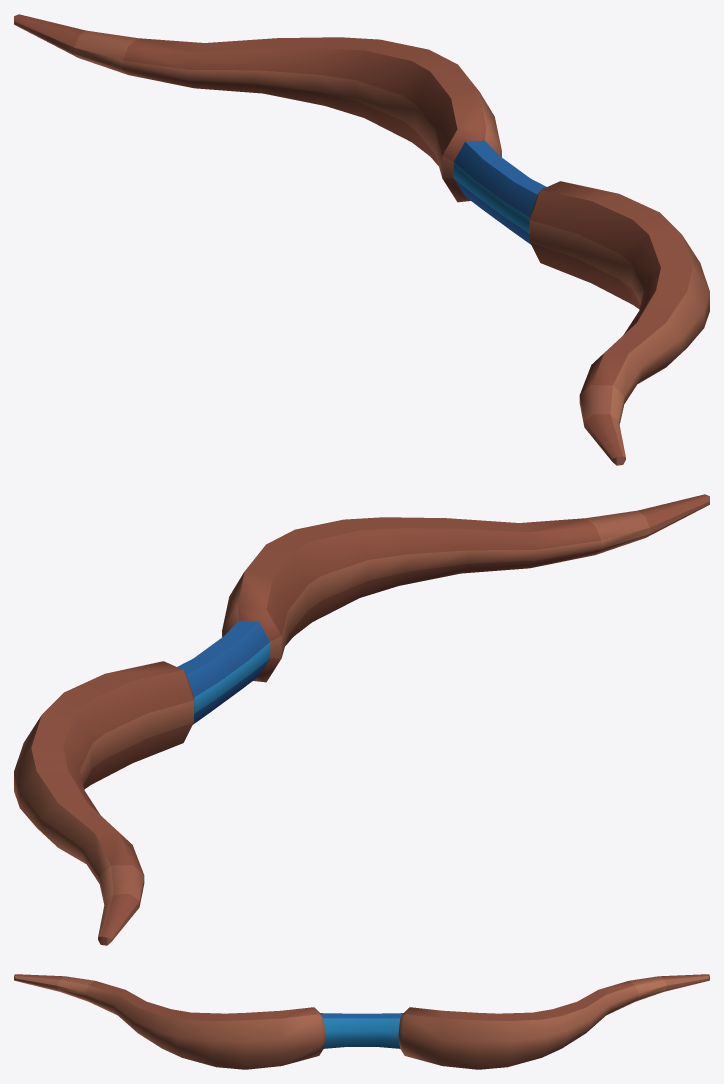
The model's file is bow.glb.
3 renders of one model, top to bottom at view 1: azimuth 30°, elevation 25°; view 2: azimuth 150°, elevation 25°; view 3: azimuth 270°, elevation 25°, orthographic. The views are drawn at different scales.
Visible parts, largest first — view 1: bow; view 2: bow; view 3: bow.
Part boxes in pixels (x1,y1,x2,y2): bow: (14, 14, 709, 465); bow: (14, 494, 709, 945); bow: (14, 974, 709, 1069).
Bounding box in the file's own units: 0.4944 × 0.1556 × 1.98.
Materials: 1 (1 with a texture image).
